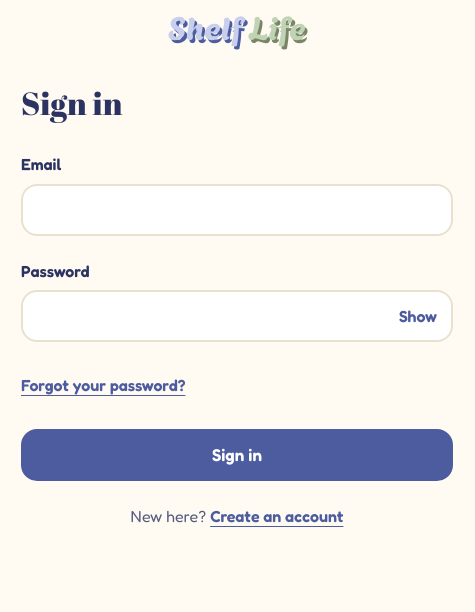
Milestone 9b Sign in › not confirmed yet: says a new link was sent
This screenshot has width=475, height=612.
Type "maya@example.com" into the field labelled "Email" at (237, 210), box [21,184,453,236]
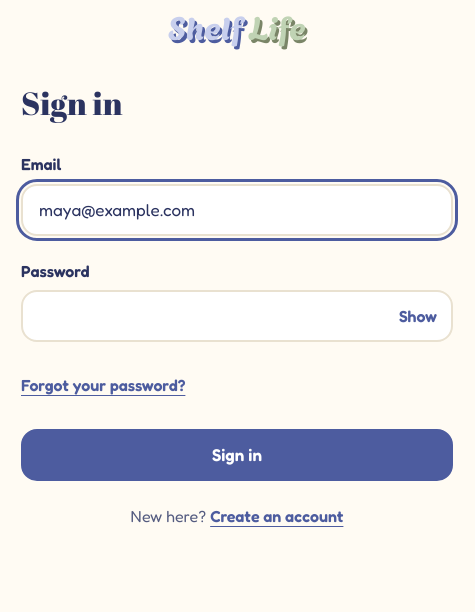
Type "correct horse battery" into the password field labelled "Password" at (237, 316), box [21,290,453,342]
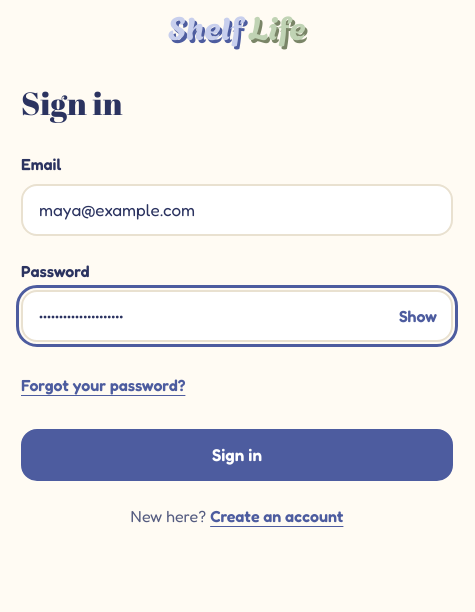
Click the button "Sign in" at (237, 455), box [21,429,453,481]
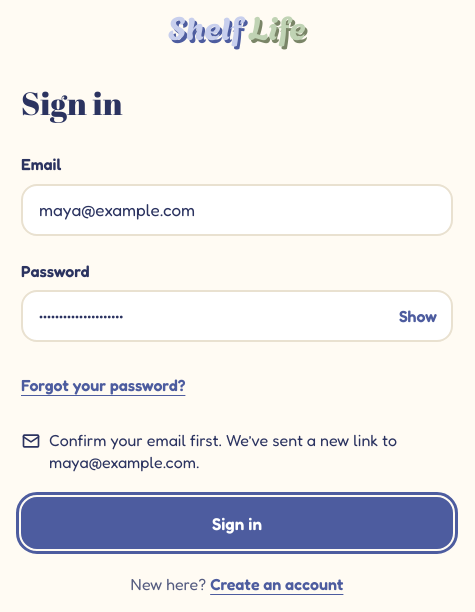
Now the text "Confirm your email first. We’ve sent a new link to maya@example.com." is shown, box [21,429,453,473]
